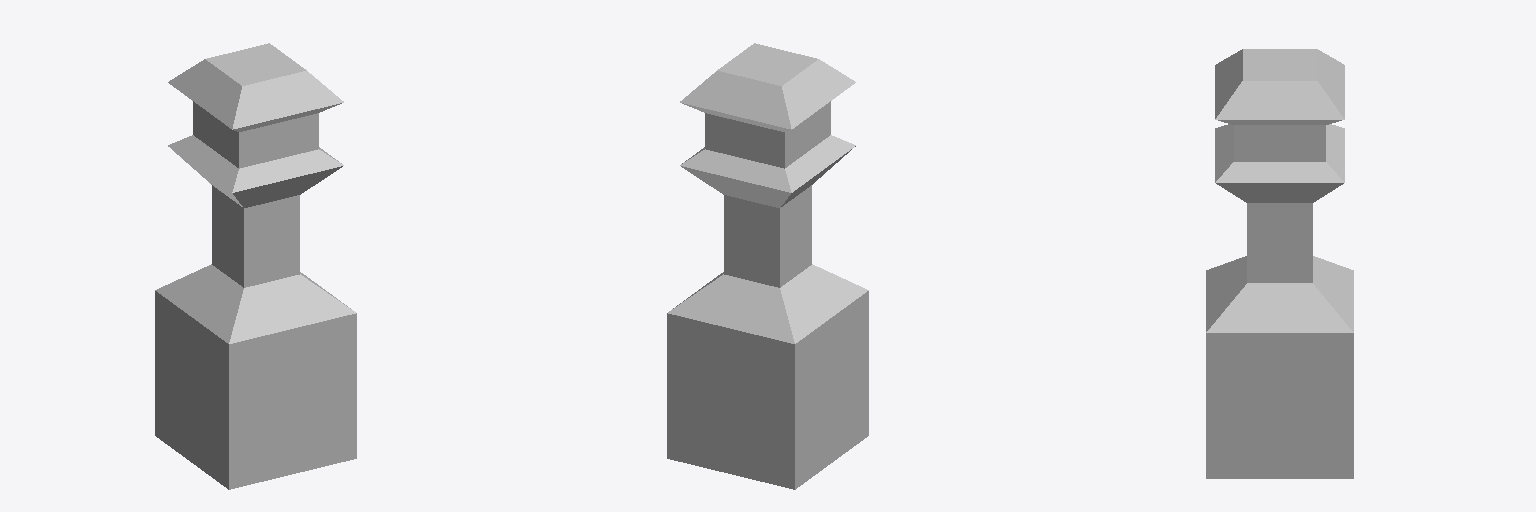
The model's file is Building6.obj.
3 renders of one model, left to right at view 1: azimuth 30°, elevation 25°; view 2: azimuth 150°, elevation 25°; view 3: azimuth 270°, elevation 25°, orthographic.
Parts seen in each view (by area): view 1: Building6; view 2: Building6; view 3: Building6.
Boxes of the visible parts, x1,y1,x2,y2 form: Building6: [155, 43, 356, 489]; Building6: [667, 43, 868, 489]; Building6: [1206, 49, 1353, 478].
Size of the model in its own units: 9.61 by 27.4 by 9.61.